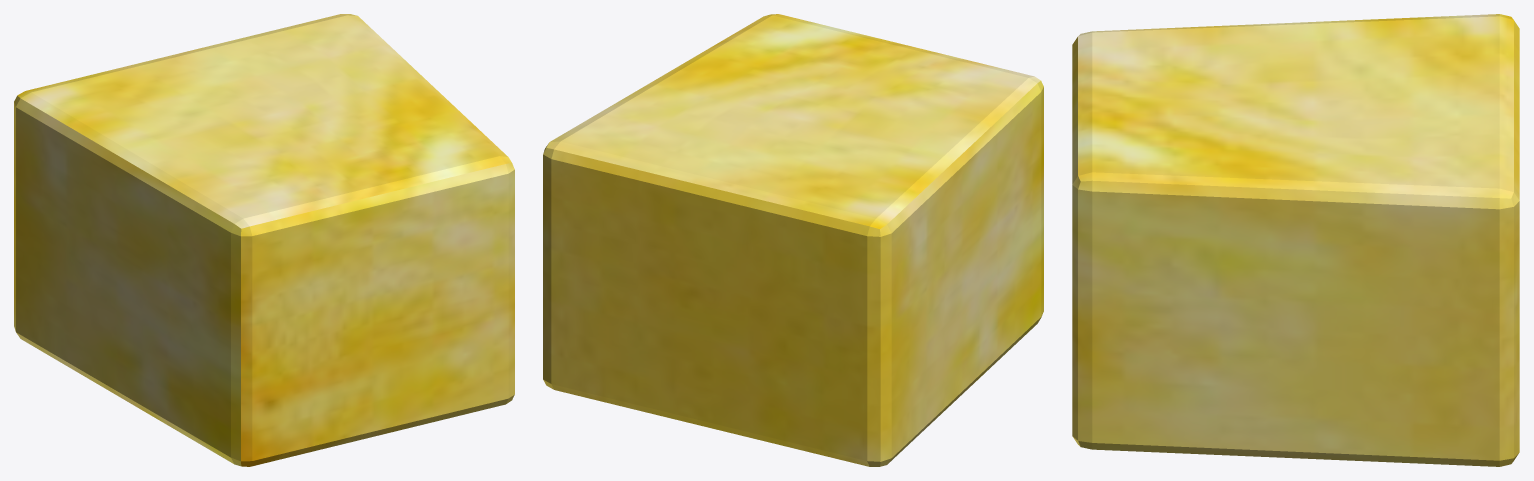
File: pineapple.fbx
3 renders of one model, left to right at view 1: azimuth 30°, elevation 25°; view 2: azimuth 150°, elevation 25°; view 3: azimuth 270°, elevation 25°, orthographic. The views are drawn at different scales.
Visible parts, largest first — view 1: Pineapple0; view 2: Pineapple0; view 3: Pineapple0.
Boxes of the visible parts, box(x1,y1,x2,y2) form: Pineapple0: box(14, 14, 514, 466); Pineapple0: box(543, 14, 1043, 466); Pineapple0: box(1072, 14, 1519, 466).
Size of the model in its own units: 26.03 by 17.72 by 26.03.
1 material, 1 textured.
